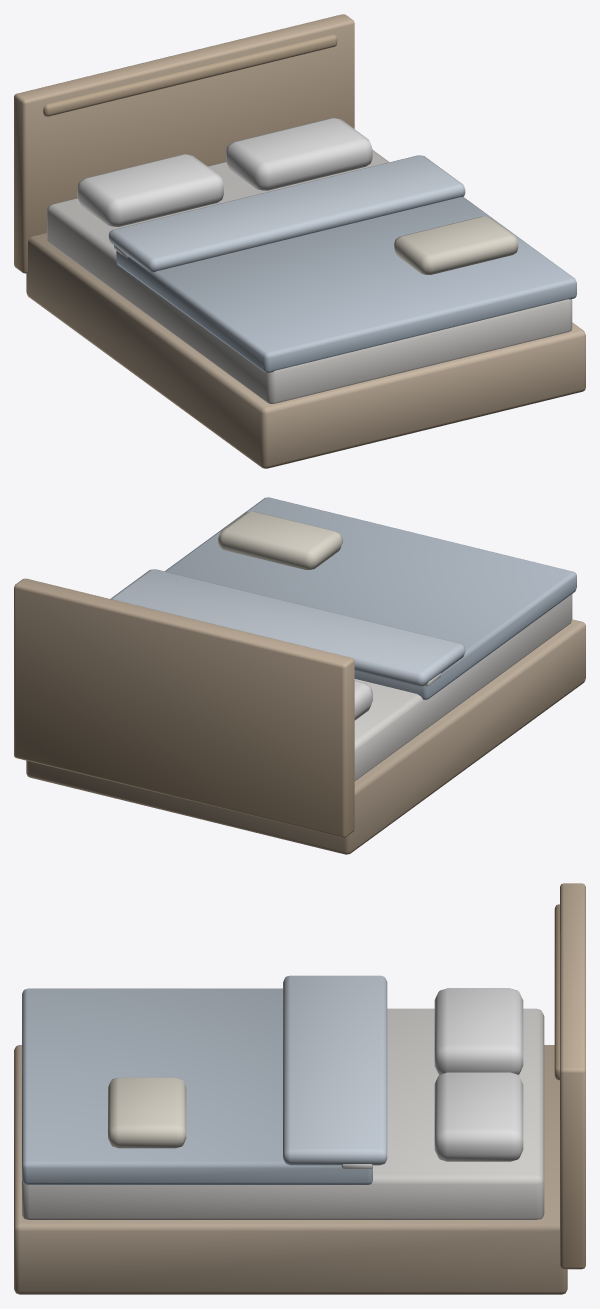
The model's file is bed_double.glb.
3 renders of one model, top to bottom at view 1: azimuth 30°, elevation 25°; view 2: azimuth 150°, elevation 25°; view 3: azimuth 270°, elevation 25°, orthographic. The views are drawn at different scales.
Visible parts, largest first — view 1: bed_double; view 2: bed_double; view 3: bed_double.
Boxes of the visible parts, x1,y1,x2,y2 form: bed_double: (14,14,585,468); bed_double: (14,497,585,854); bed_double: (14,883,585,1294).
Bounding box in the file's own units: 1.7 × 0.97 × 2.19.
